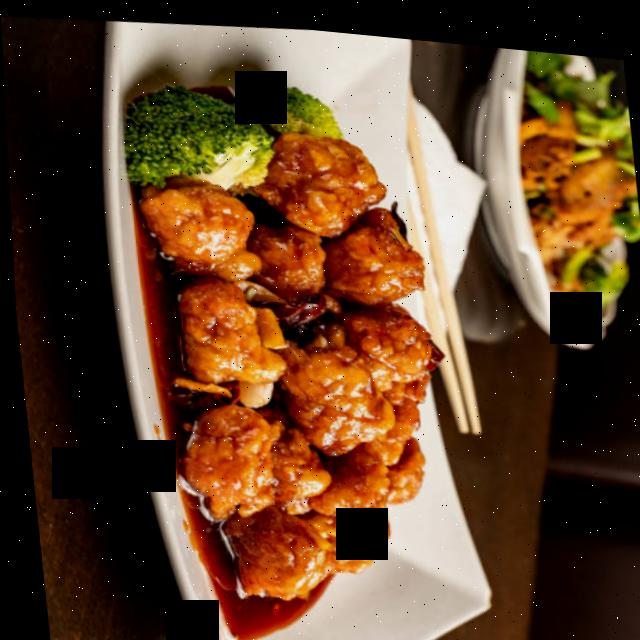Frango: (125, 103, 466, 636)
